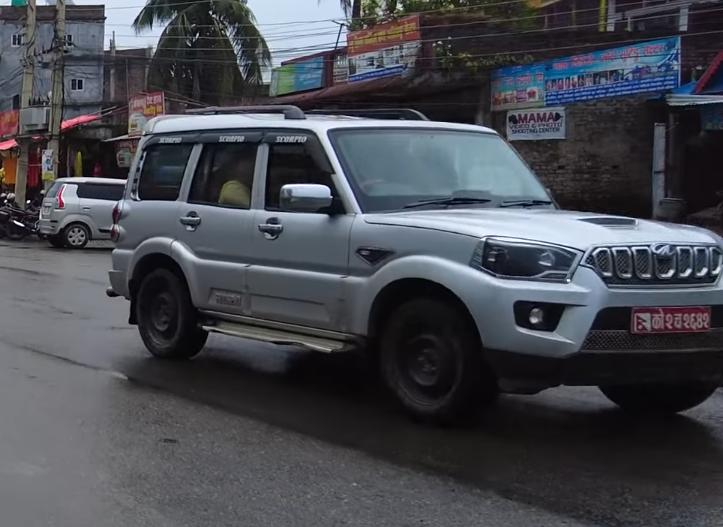SUV: (97, 97, 723, 432)
car: (33, 171, 127, 250)
